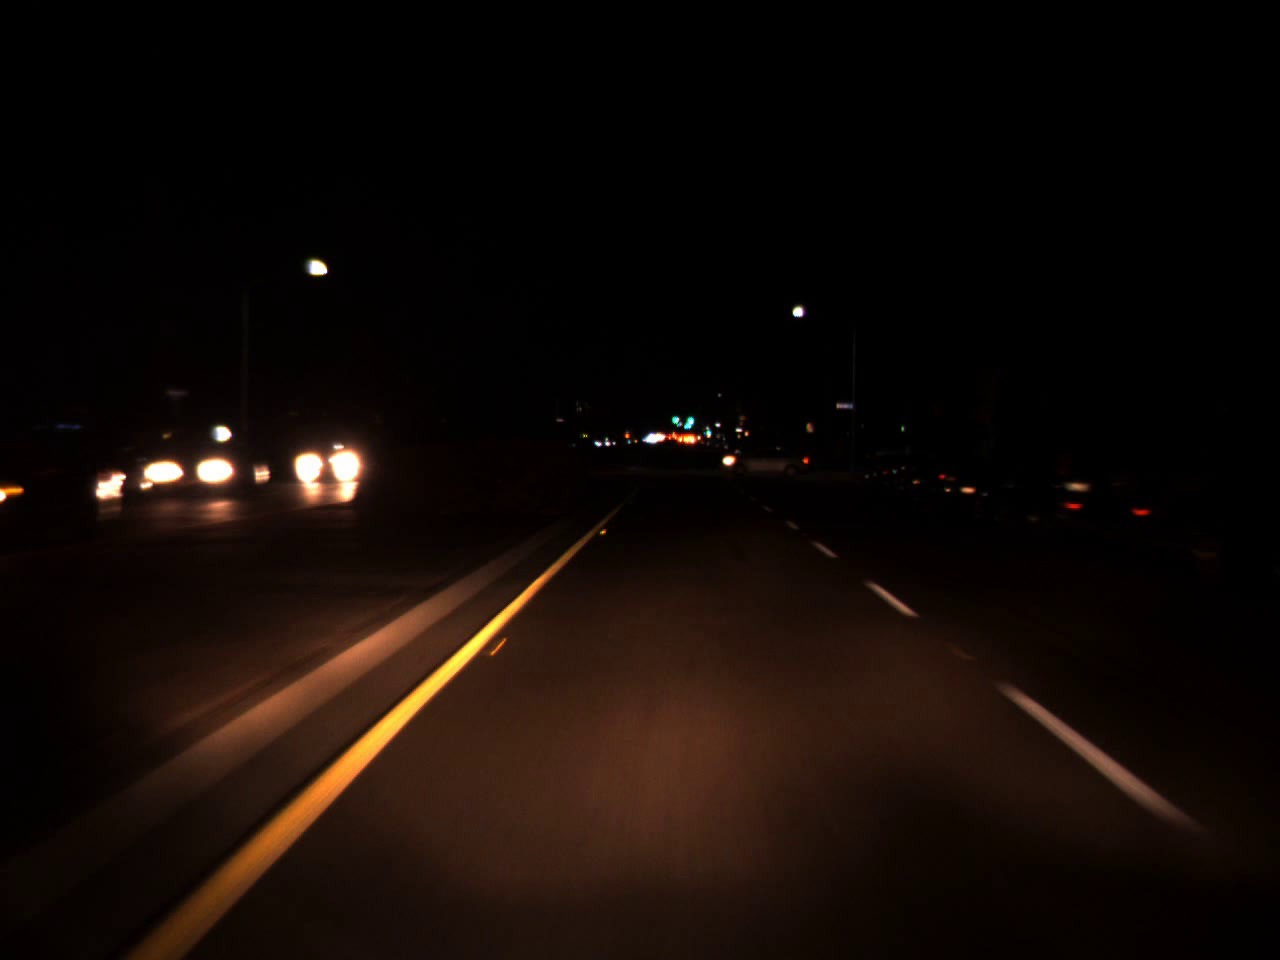go: (679, 403, 697, 433), (669, 406, 679, 427), (703, 421, 712, 436)
